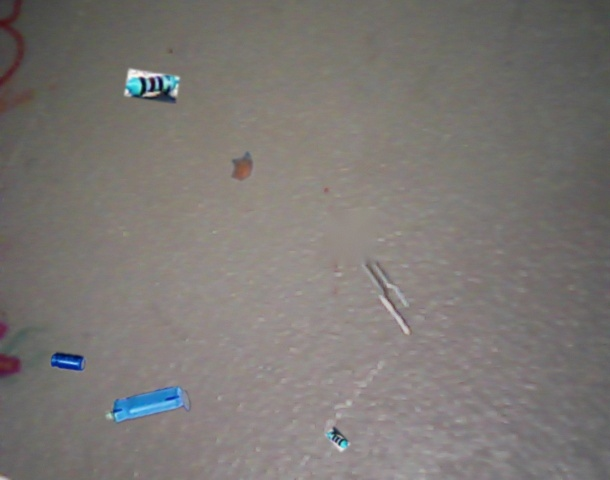capacitor: (112, 386, 190, 423), (231, 151, 254, 182), (50, 353, 86, 371)
resistor: (125, 69, 179, 104), (326, 427, 350, 452), (106, 409, 126, 419)
